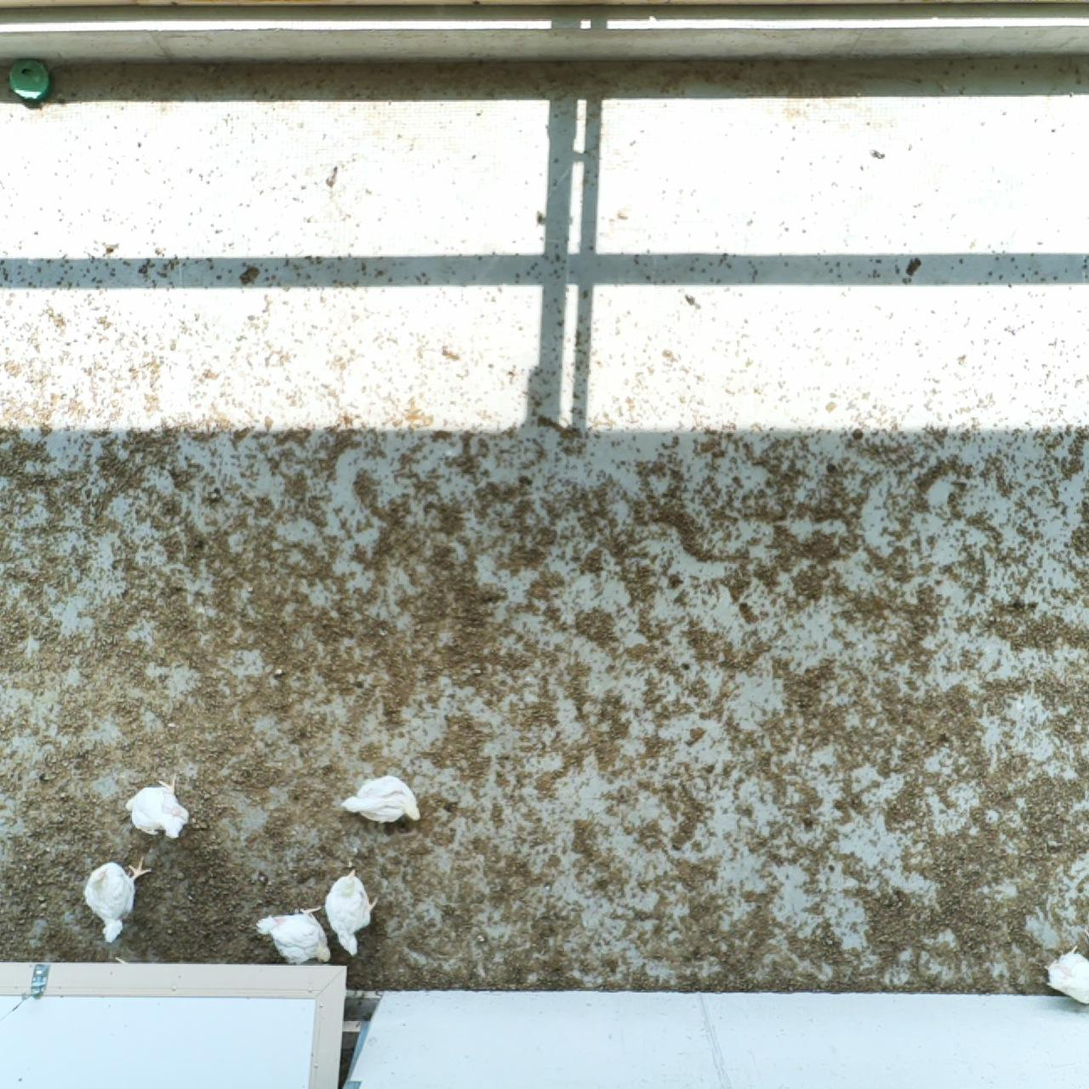chicken: (80, 852, 150, 942), (253, 898, 337, 972), (321, 857, 379, 955), (337, 771, 425, 830), (123, 778, 194, 842), (1035, 946, 1089, 1004)
